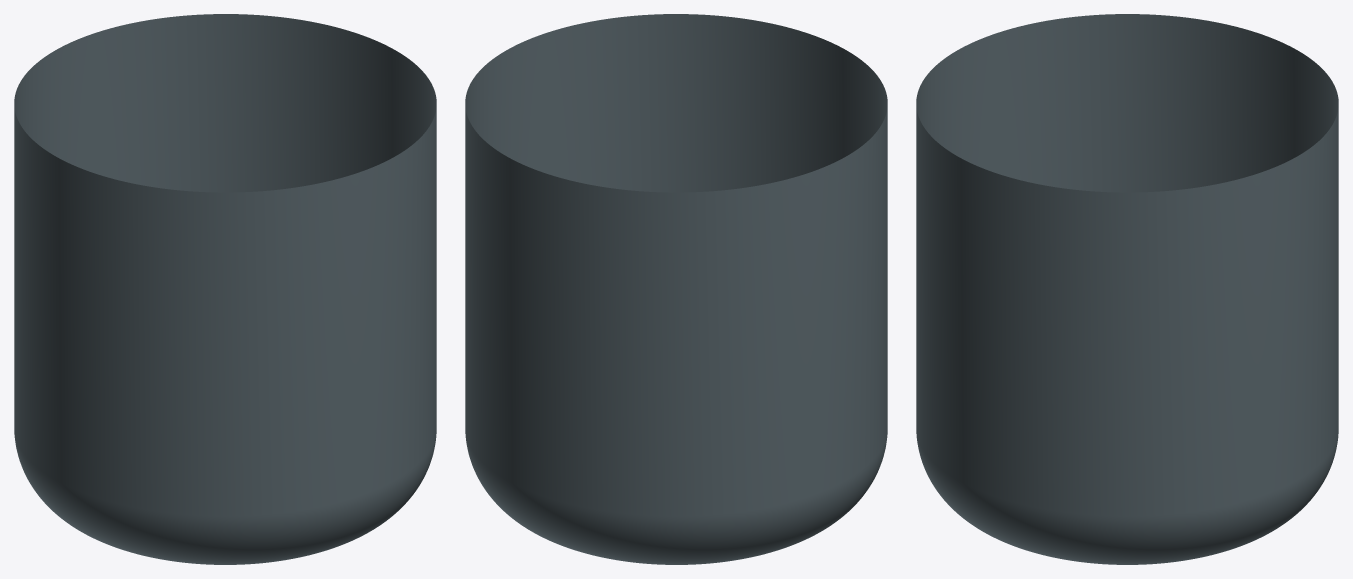
Rendered from backdrop.glb.
3 views of the same model, side by side, from view 1: azimuth 30°, elevation 25°; view 2: azimuth 150°, elevation 25°; view 3: azimuth 270°, elevation 25° (orthographic).
Parts seen in each view (by area): view 1: Aperture Atlas / backdrop; view 2: Aperture Atlas / backdrop; view 3: Aperture Atlas / backdrop.
Boxes of the visible parts, left/top/right/bottom form: Aperture Atlas / backdrop: left=14, top=14, right=436, bottom=564; Aperture Atlas / backdrop: left=465, top=14, right=887, bottom=564; Aperture Atlas / backdrop: left=916, top=14, right=1338, bottom=564.
Size of the model in its own units: 4 by 4.18 by 4.
